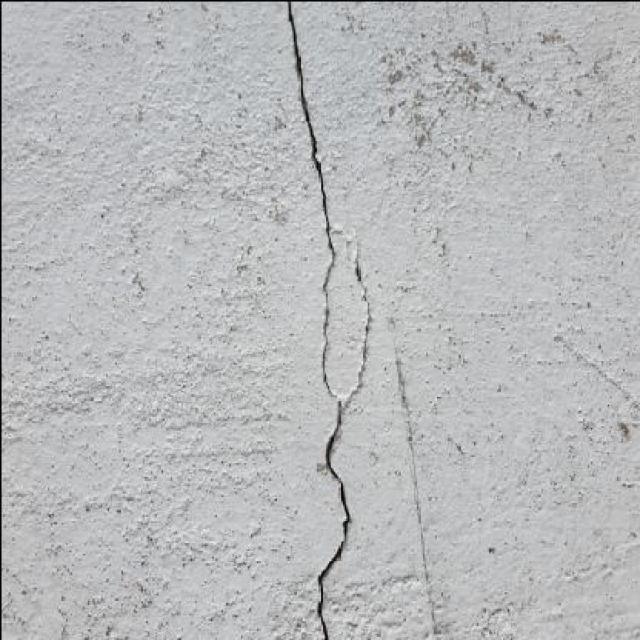GRIETA: (288, 0, 350, 639), (389, 318, 437, 639), (554, 334, 639, 410), (346, 244, 371, 409)
